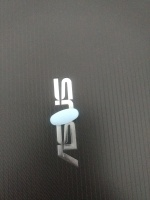Apranax: (50, 108, 80, 126)
